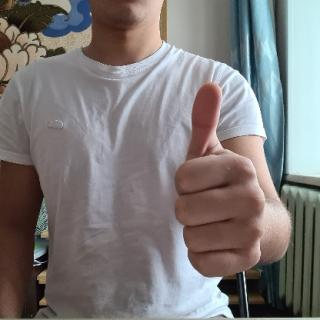ALIF: (170, 80, 270, 284)
